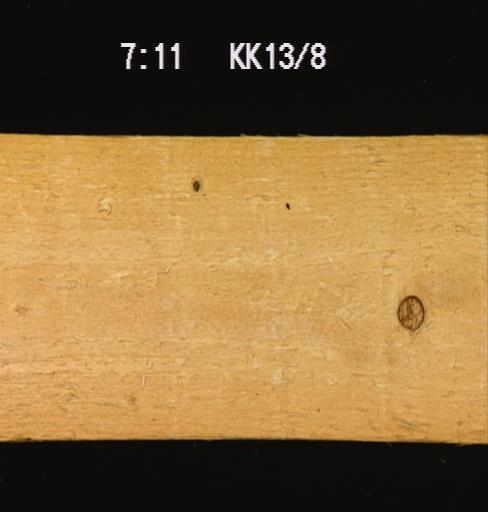dry_knot: (393, 293, 425, 332)
small_knot: (188, 175, 201, 195)
